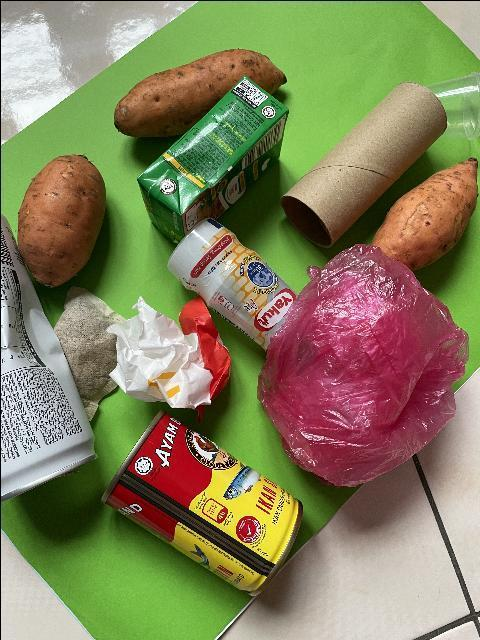drinkcan: (0, 211, 100, 511)
drinkpack: (136, 74, 287, 252)
foodcan: (99, 407, 304, 601)
paperbag: (101, 290, 234, 420)
plasticbag: (257, 240, 469, 488)
plasticbottle: (165, 210, 315, 362)
sweetpotato: (110, 46, 288, 140), (366, 156, 478, 278), (15, 152, 105, 288)
teabag: (52, 279, 138, 435)
